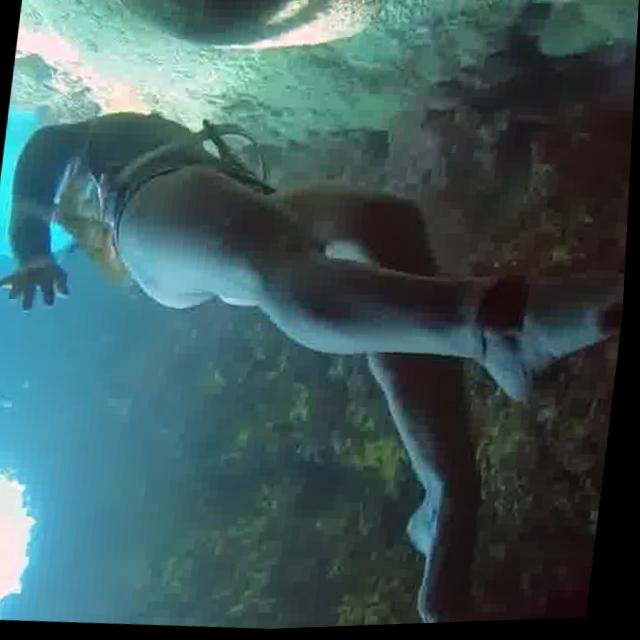human: (0, 80, 636, 640)
